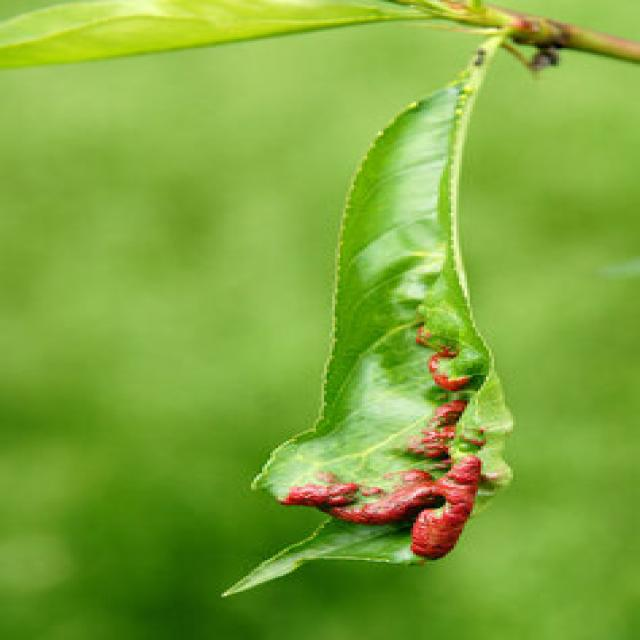peach_leaf_curl: (276, 320, 492, 562)
